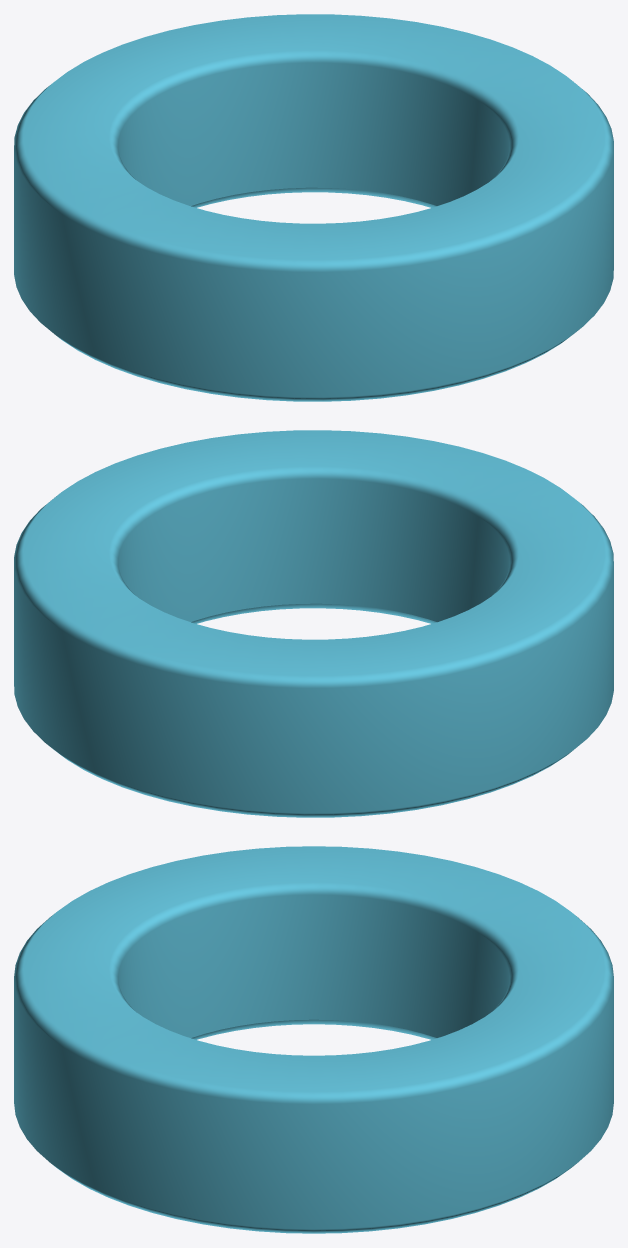
3 renders of one model, top to bottom at view 1: azimuth 30°, elevation 25°; view 2: azimuth 150°, elevation 25°; view 3: azimuth 270°, elevation 25°, orthographic.
Visible parts, largest first — view 1: seal_body; view 2: seal_body; view 3: seal_body.
Part boxes in pixels (box(x1,y1,x2,y2)): seal_body: box(14, 14, 613, 401); seal_body: box(14, 430, 613, 817); seal_body: box(14, 846, 613, 1233).
Bounding box in the file's own units: 0.023 × 0.006 × 0.023.
